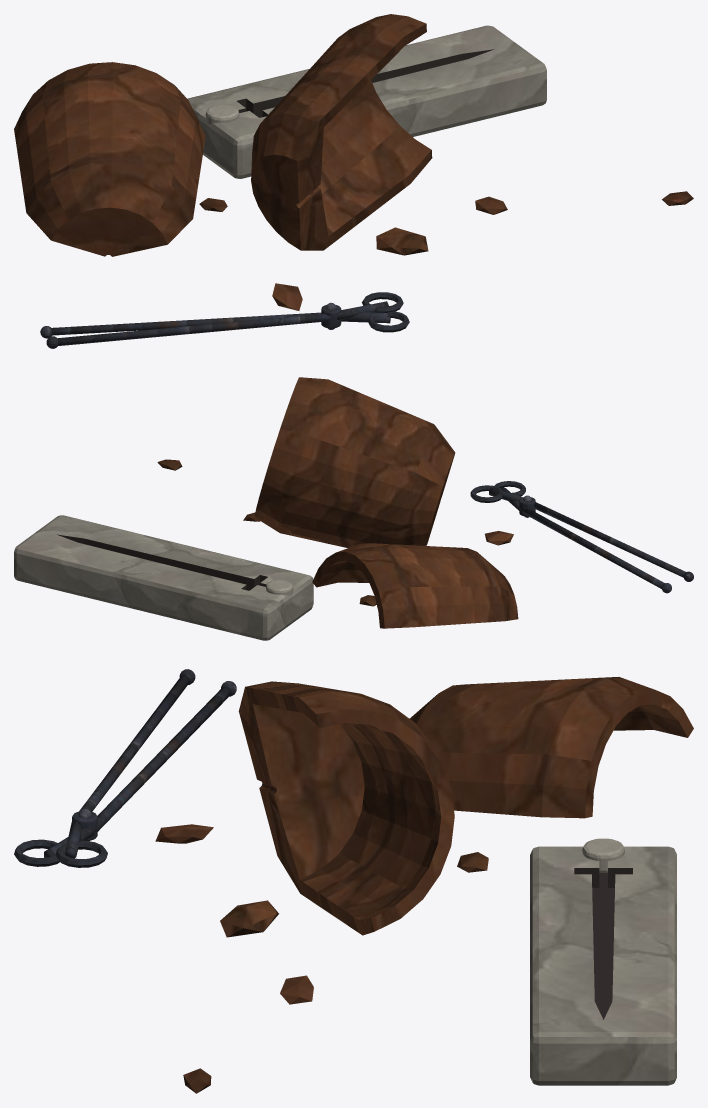
The model's file is ef_burst_crucible.glb.
The picture shows the model from 3 angles, top to bottom: view 1: azimuth 30°, elevation 25°; view 2: azimuth 150°, elevation 25°; view 3: azimuth 270°, elevation 25°; orthographic projection. The views are drawn at different scales.
Parts seen in each view (by area): view 1: model; view 2: model; view 3: model.
Boxes of the visible parts, x1=… form: model: x1=14, y1=14, x2=693, y2=348; model: x1=14, y1=377, x2=693, y2=640; model: x1=14, y1=669, x2=693, y2=1093.
Bounding box in the file's own units: 1.29 × 0.3719 × 0.925.
6 materials, 5 textured.
